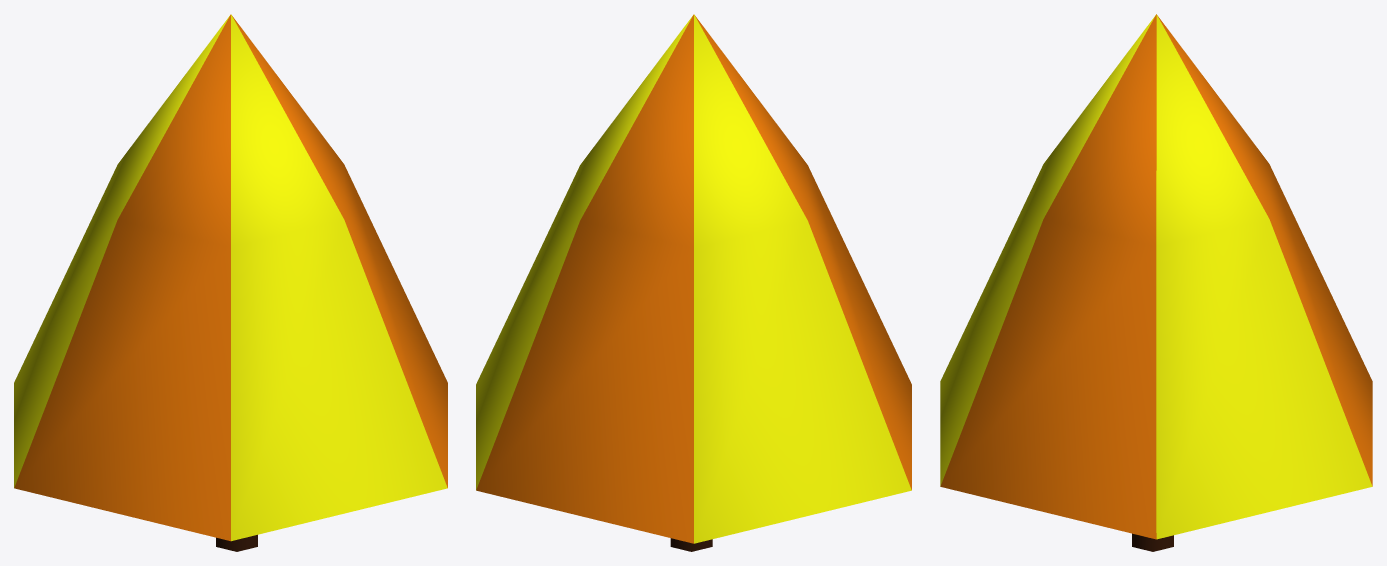
Rendered from Castle_Block_Tree_B.FBX.
3 views of the same model, side by side, from view 1: azimuth 30°, elevation 25°; view 2: azimuth 150°, elevation 25°; view 3: azimuth 270°, elevation 25° (orthographic).
Parts seen in each view (by area): view 1: Tree; view 2: Tree; view 3: Tree.
Part boxes in pixels (left/top/right/bottom): Tree: left=14, top=14, right=447, bottom=551; Tree: left=476, top=14, right=911, bottom=551; Tree: left=940, top=14, right=1372, bottom=551.
Bounding box in the file's own units: 21.86 × 25.4 × 18.93.
